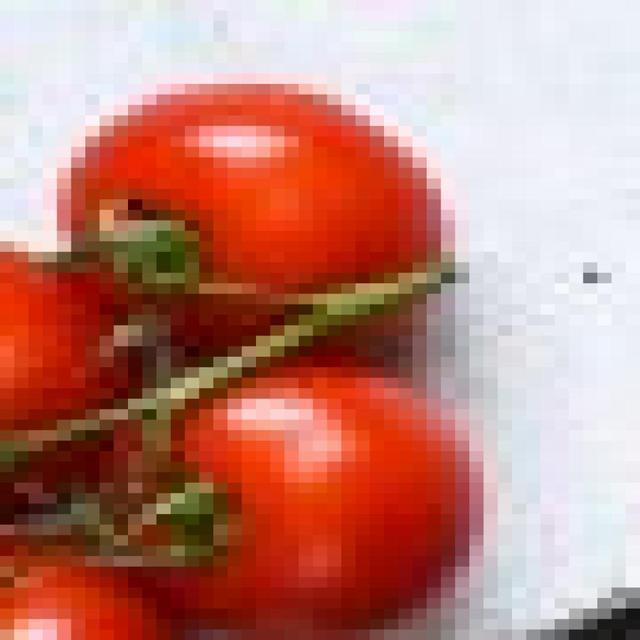Healthy Fruit: (160, 145, 237, 332)
